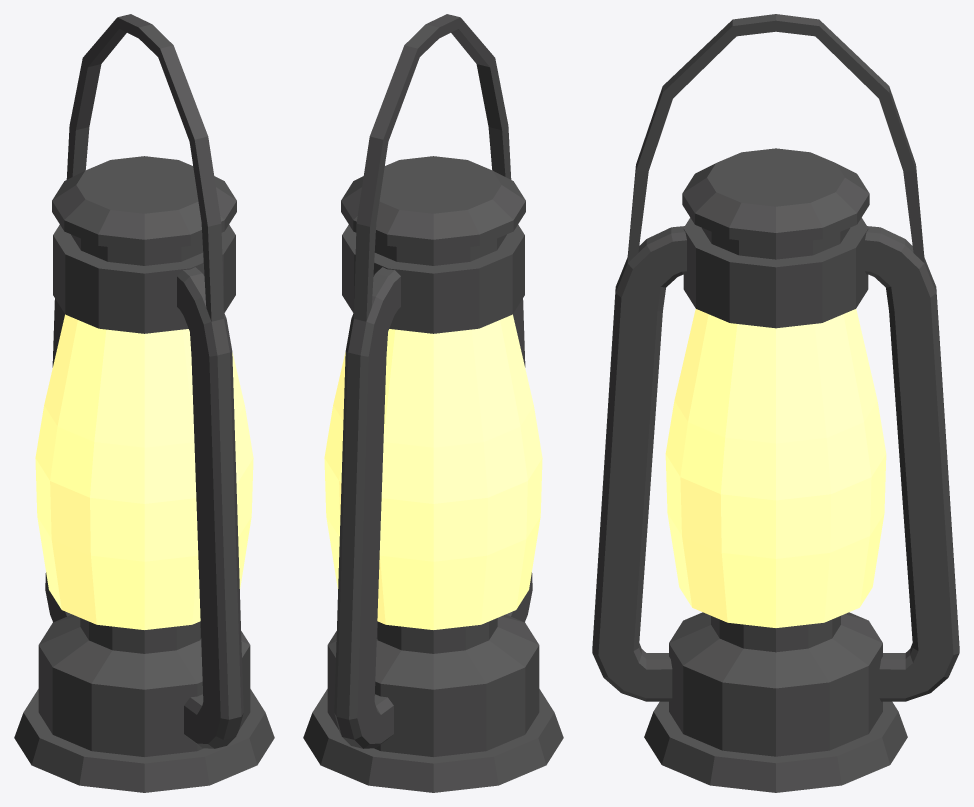
Rendered from Lantern.glb.
The picture shows the model from 3 angles, left to right: view 1: azimuth 30°, elevation 25°; view 2: azimuth 150°, elevation 25°; view 3: azimuth 270°, elevation 25°; orthographic projection.
Parts seen in each view (by area): view 1: Lantern; view 2: Lantern; view 3: Lantern.
Part boxes in pixels (x1,y1,x2,y2): Lantern: [14, 14, 274, 792]; Lantern: [303, 14, 563, 792]; Lantern: [592, 14, 959, 792].
Size of the model in its own units: 0.2251 by 0.6783 by 0.3133.
